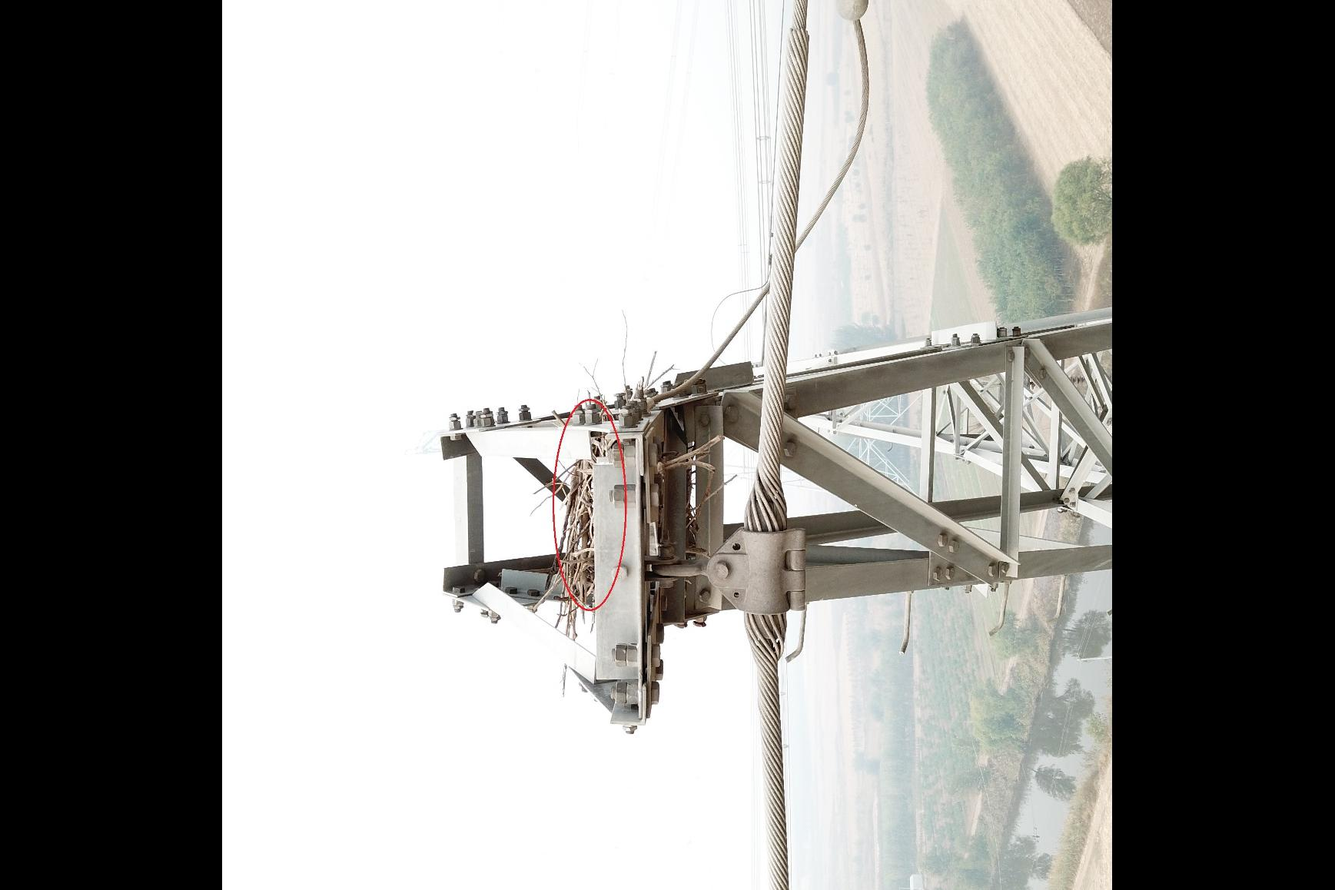nest: (540, 449, 609, 636)
